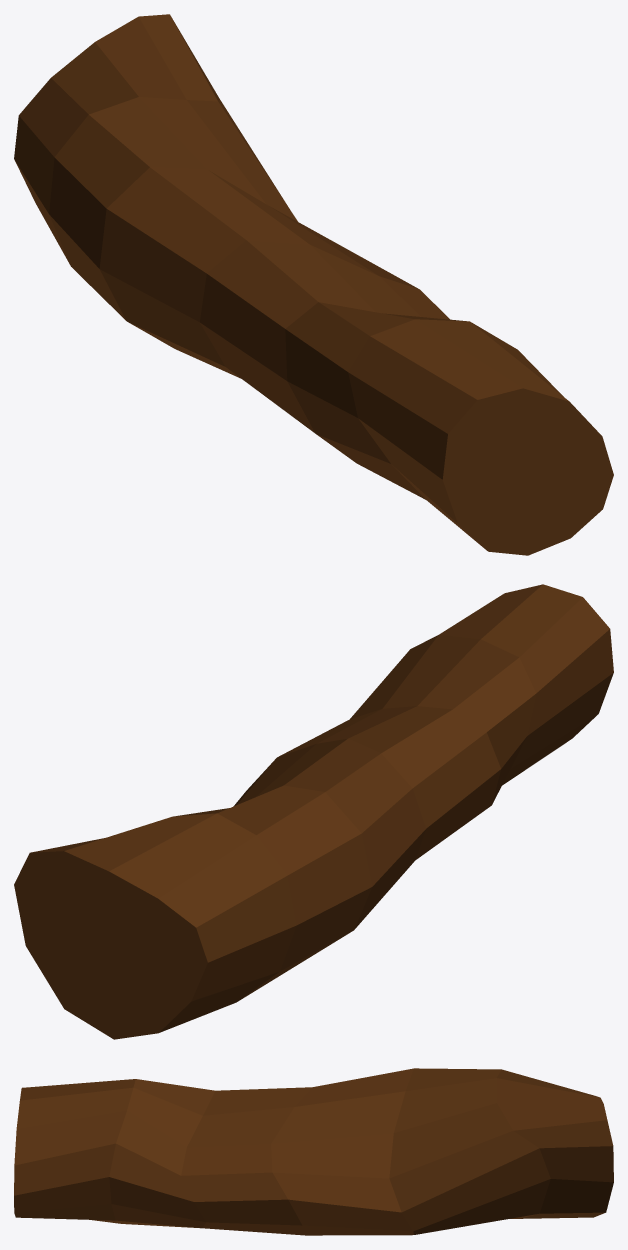
File: Log02.fbx
The picture shows the model from 3 angles, top to bottom: view 1: azimuth 30°, elevation 25°; view 2: azimuth 150°, elevation 25°; view 3: azimuth 270°, elevation 25°; orthographic projection. The views are drawn at different scales.
Parts seen in each view (by area): view 1: Cylinder.007; view 2: Cylinder.007; view 3: Cylinder.007.
Part boxes in pixels (x1,y1,x2,y2): Cylinder.007: [14, 14, 613, 555]; Cylinder.007: [14, 584, 613, 1039]; Cylinder.007: [14, 1068, 613, 1235].
Bounding box in the file's own units: 212 × 182 × 732.
